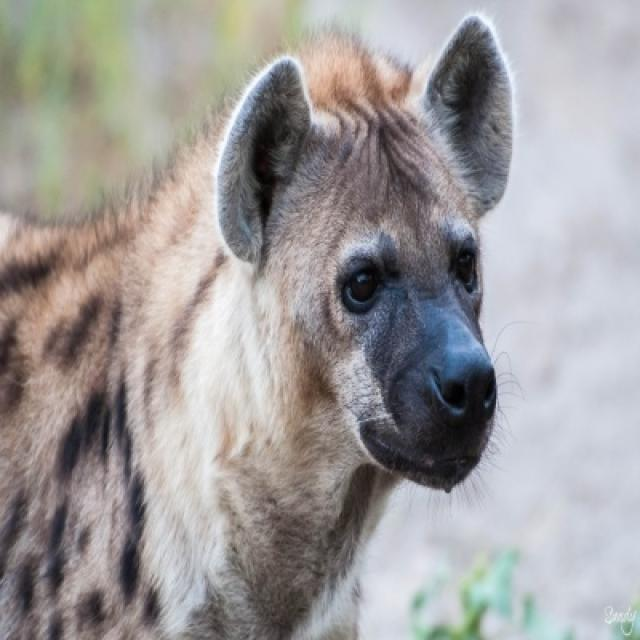hyena: (0, 16, 517, 638)
